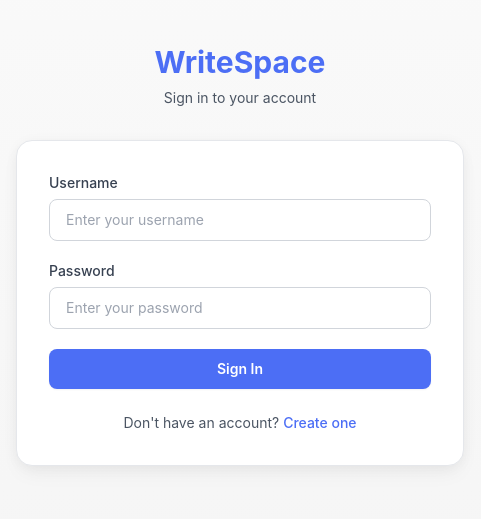
Test: LoginPage › validation and error display › should display generic error when login returns no error message
This screenshot has width=481, height=519.
Type "testuser" into the field labelled "Username" at (240, 220), box x1=49 y1=199 x2=431 y2=241
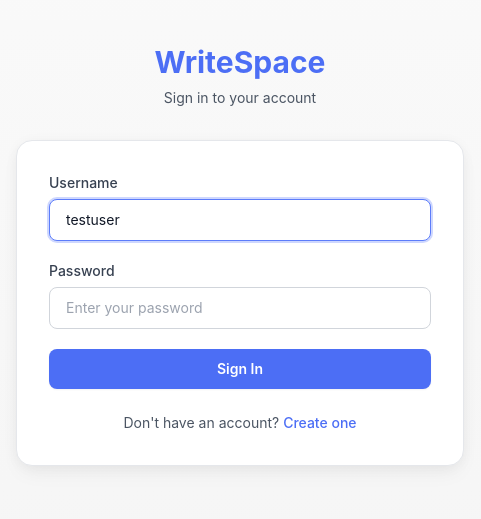
Type "testpass" into the password field labelled "Password" at (240, 308), box x1=49 y1=287 x2=431 y2=329
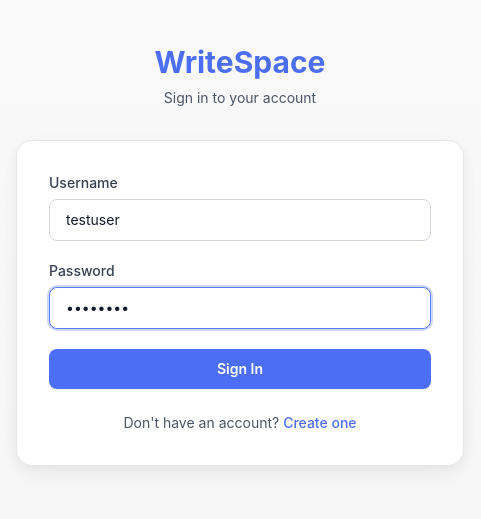
Click the button "Sign In" at (240, 369), box x1=49 y1=349 x2=431 y2=389
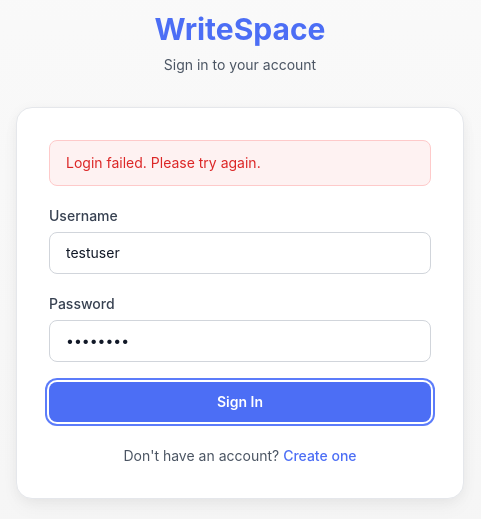
Check: the message reads "Login failed. Please try again.", box x1=66 y1=154 x2=261 y2=171
